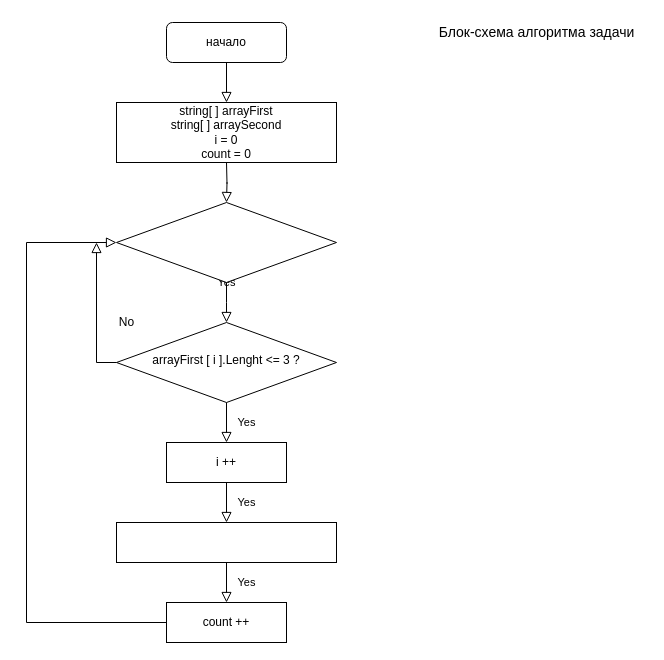
Image size: 664x660. Some labels were removed from this diagram. The shapes that lost their labels are listed below. From the top down, each one's centre as x and y in pixels, then its label:
At point (226, 242): "i < arrayFirst.Lenght ?".
At point (226, 542): "arraySecond [ count ] = arrayFirst [ i ]".
